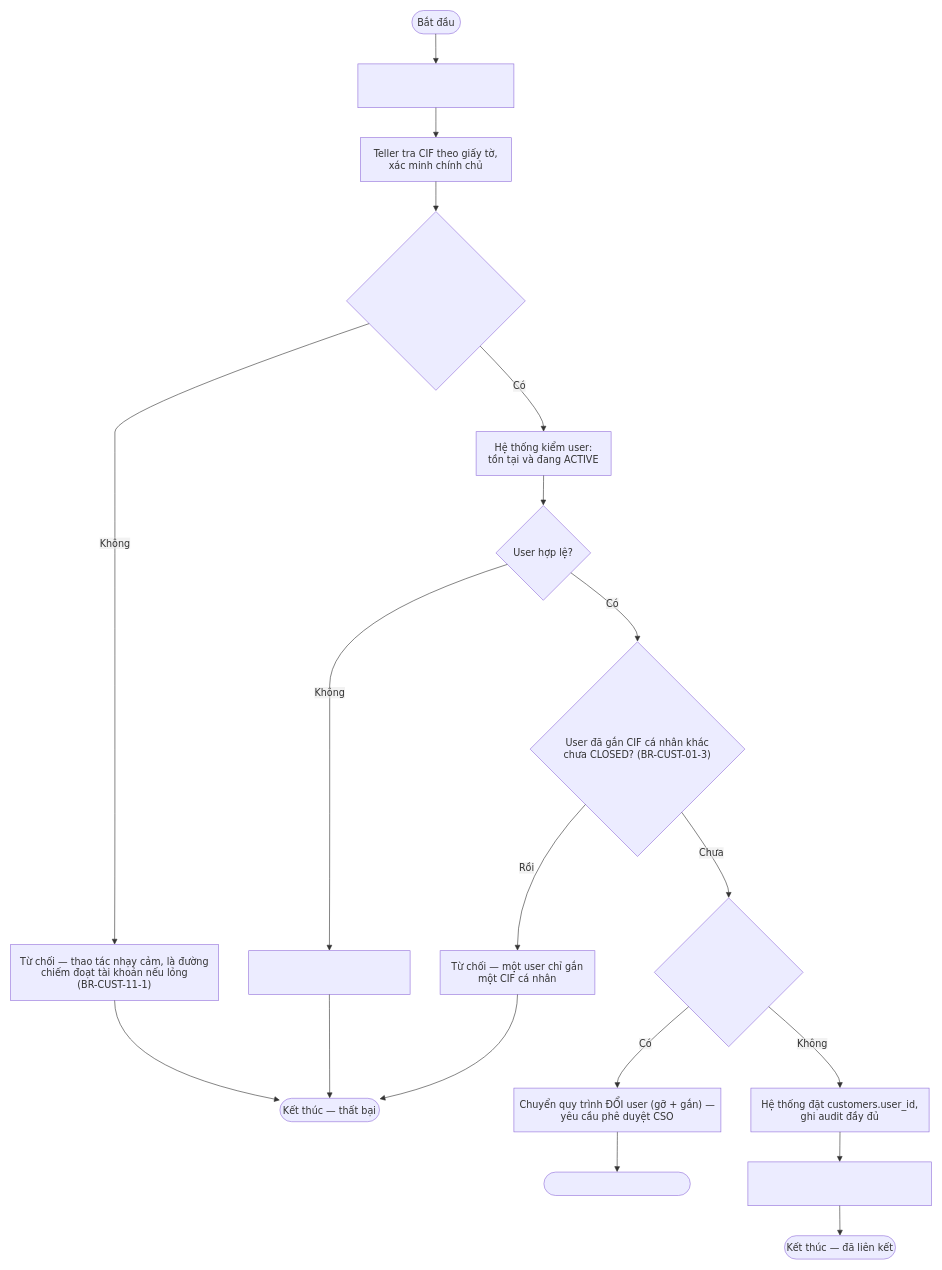
Image size: 942x1270. Some labels were removed from this diagram. Here are the shapes that lost their labels. From the top down, the box of each, then its label:
(357, 63, 514, 108): Khách cung cấp username + giấy tờ định danh tại quầy
(346, 211, 525, 390): Xác minh chính chủ đạt?
(248, 950, 410, 994): Từ chối — user không tồn tại hoặc không ACTIVE
(654, 897, 803, 1047): CIF đã có user khác?
(543, 1172, 690, 1196): Kết thúc — chờ phê duyệt CSO
(747, 1161, 932, 1206): Từ đây user đăng nhập thấy hồ sơ + tài khoản của CIF này
